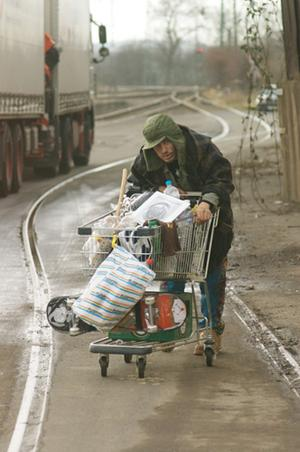person: (127, 111, 234, 357)
